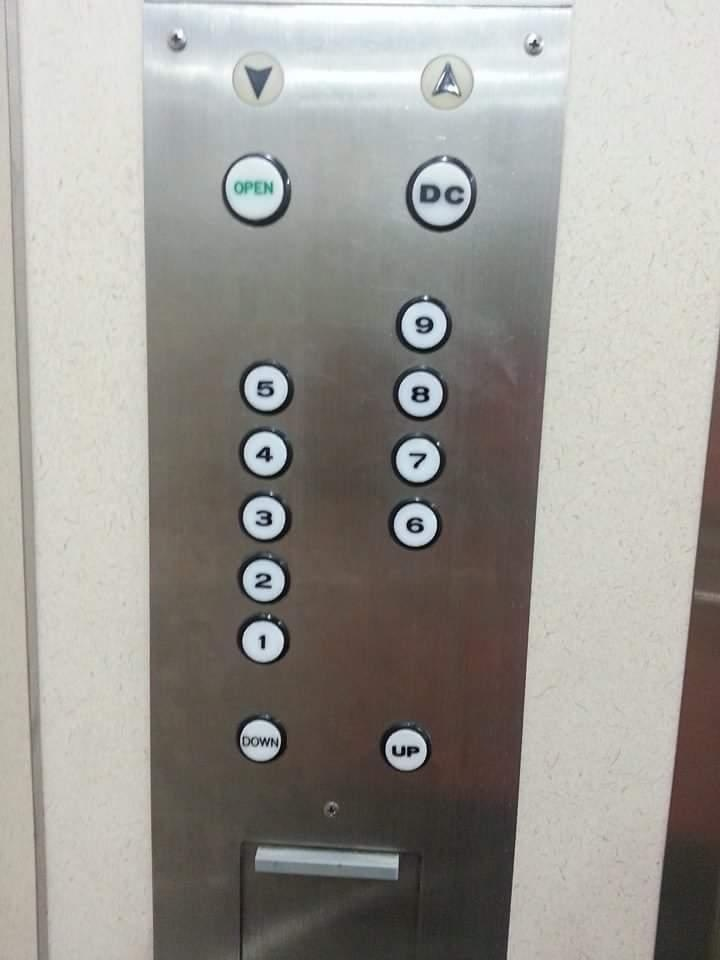1: (236, 610, 290, 665)
2: (236, 550, 290, 604)
3: (238, 489, 291, 543)
4: (237, 424, 293, 478)
5: (237, 357, 294, 416)
6: (387, 494, 442, 551)
7: (390, 429, 446, 487)
8: (391, 362, 450, 421)
9: (396, 294, 452, 353)
DC: (404, 152, 478, 234)
down: (230, 51, 286, 108)
text_DOWN: (234, 711, 287, 764)
text_OPEN: (221, 149, 292, 228)
up: (416, 53, 477, 112), (379, 721, 432, 774)
